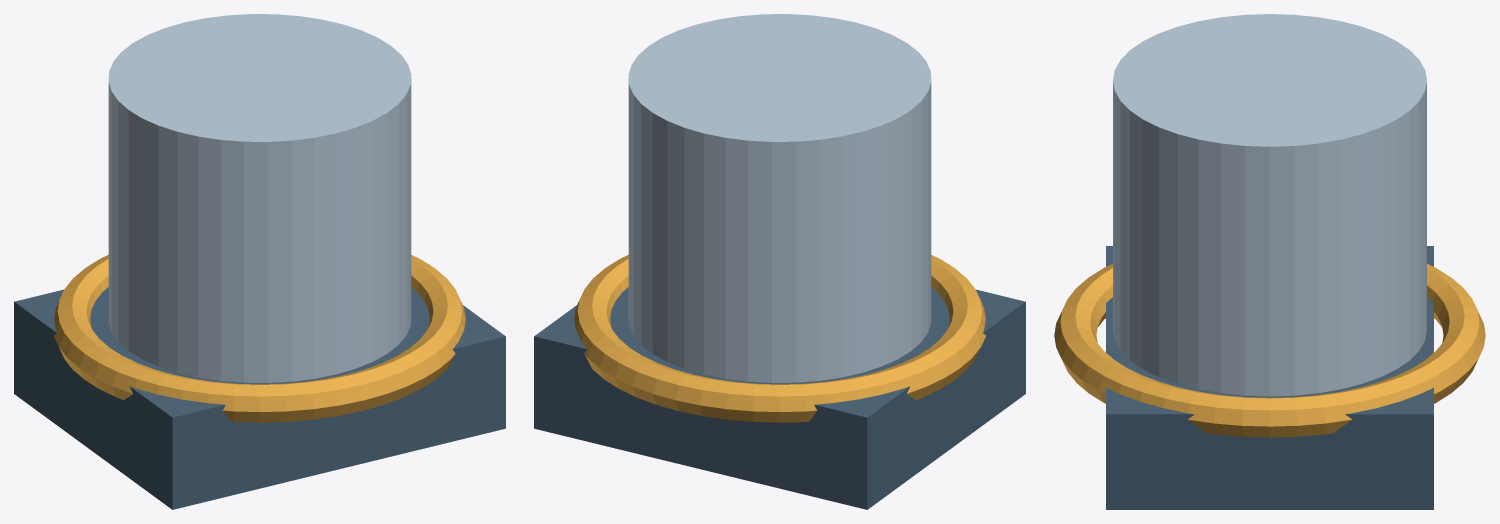
Rendered from 55_L92_GroundPenetratingRadarB.fbx.
The picture shows the model from 3 angles, left to right: view 1: azimuth 30°, elevation 25°; view 2: azimuth 150°, elevation 25°; view 3: azimuth 270°, elevation 25°; orthographic projection. The views are drawn at different scales.
Visible parts, largest first — view 1: L92_GroundPenetratingRadarB_Part_0001, L92_GroundPenetratingRadarB, L92_GroundPenetratingRadarB_Part_0002; view 2: L92_GroundPenetratingRadarB_Part_0001, L92_GroundPenetratingRadarB, L92_GroundPenetratingRadarB_Part_0002; view 3: L92_GroundPenetratingRadarB_Part_0001, L92_GroundPenetratingRadarB, L92_GroundPenetratingRadarB_Part_0002.
Boxes of the visible parts, x1,y1,x2,y2 form: L92_GroundPenetratingRadarB_Part_0001: (108, 14, 411, 382); L92_GroundPenetratingRadarB: (14, 287, 505, 509); L92_GroundPenetratingRadarB_Part_0002: (53, 255, 465, 422); L92_GroundPenetratingRadarB_Part_0001: (628, 14, 931, 382); L92_GroundPenetratingRadarB: (534, 287, 1025, 509); L92_GroundPenetratingRadarB_Part_0002: (574, 255, 986, 422); L92_GroundPenetratingRadarB_Part_0001: (1113, 14, 1426, 396); L92_GroundPenetratingRadarB: (1106, 246, 1433, 509); L92_GroundPenetratingRadarB_Part_0002: (1054, 263, 1485, 437).
Size of the model in its own units: 184 by 162 by 184.
